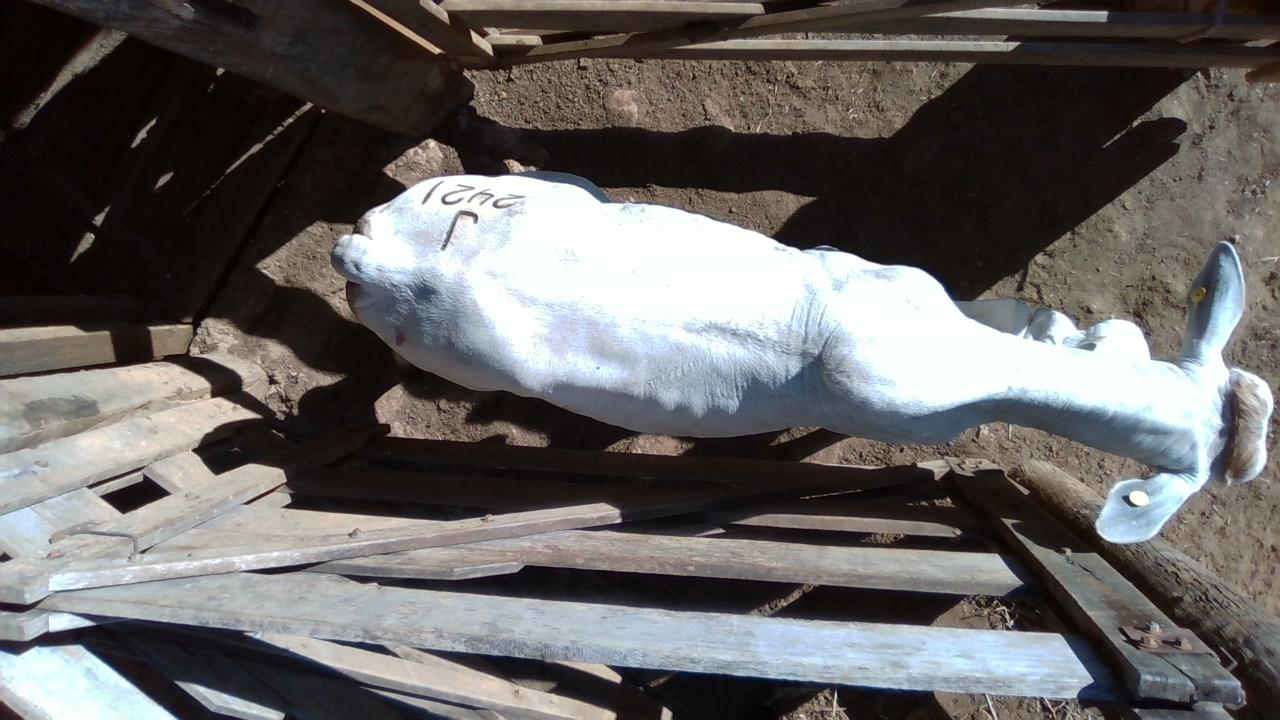cattle: (329, 169, 1273, 544)
